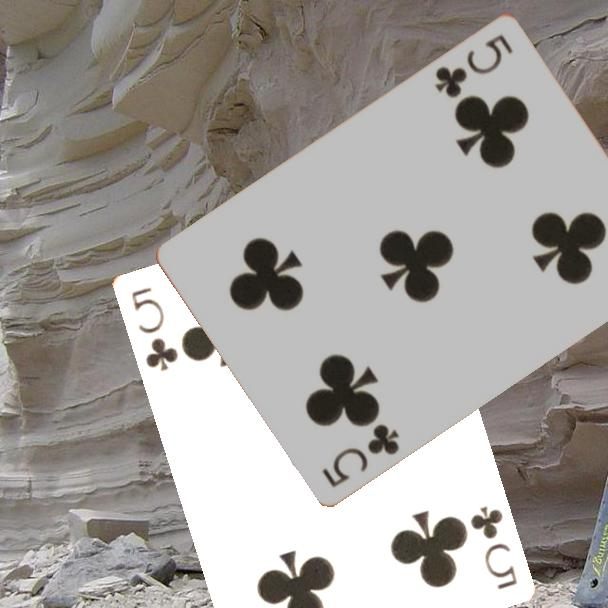c05: (431, 30, 516, 101), (318, 419, 403, 490), (127, 283, 181, 374), (466, 502, 520, 592)
